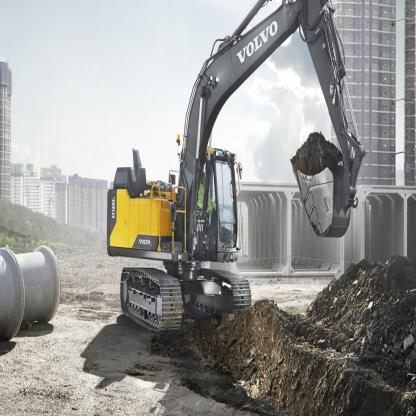excavator: (81, 0, 366, 359)
